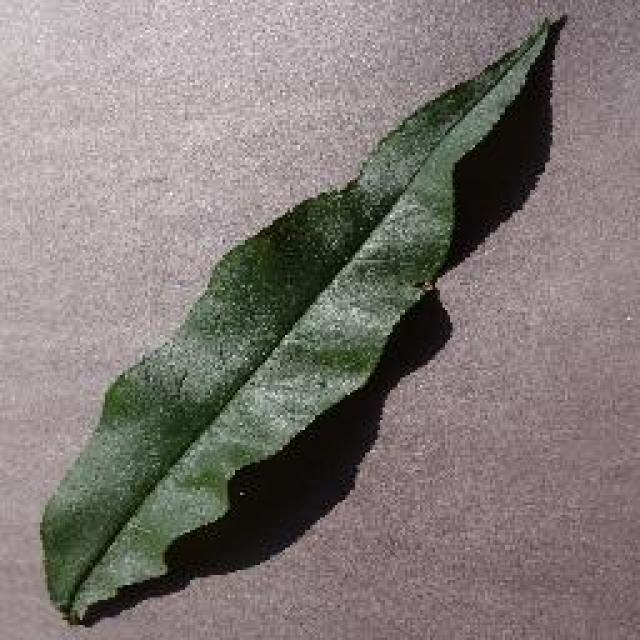Pea_healthy: (81, 125, 451, 580)
